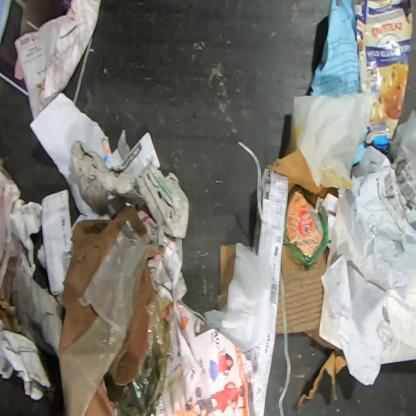cardboard: (69, 140, 190, 249), (280, 239, 348, 406), (354, 0, 414, 157), (266, 148, 340, 207), (217, 244, 236, 312), (275, 283, 284, 335)
rigid_plastic: (284, 189, 328, 266)
soft_plastic: (59, 219, 151, 416), (119, 293, 175, 416)
